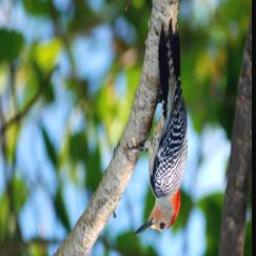Woodpecker: (124, 18, 188, 235)
